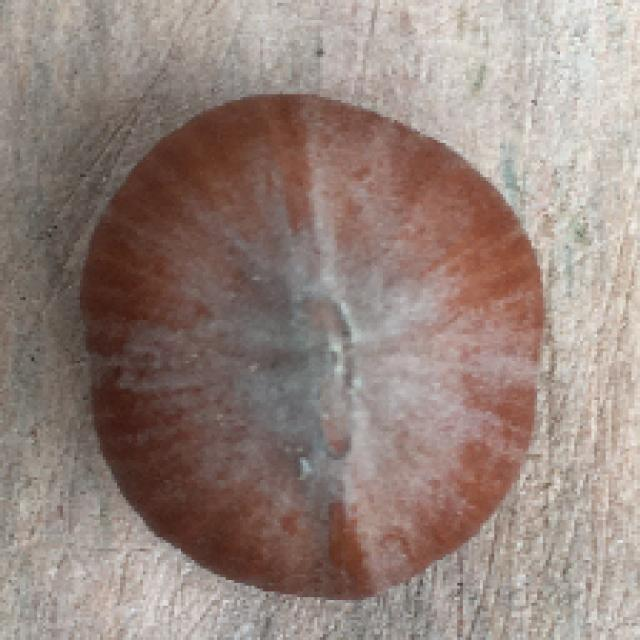qualityHazelnut: (72, 93, 560, 594)
